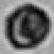correct: (5, 4, 52, 44)
